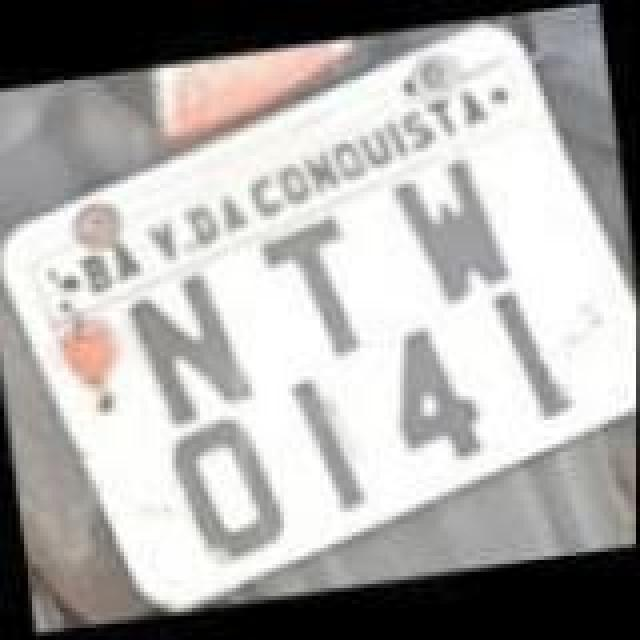1: (280, 368, 376, 524), (484, 280, 584, 424)
4: (380, 308, 500, 476)
N: (126, 258, 254, 430)
O: (172, 406, 292, 570)
T: (262, 208, 374, 372)
W: (390, 150, 514, 314)
